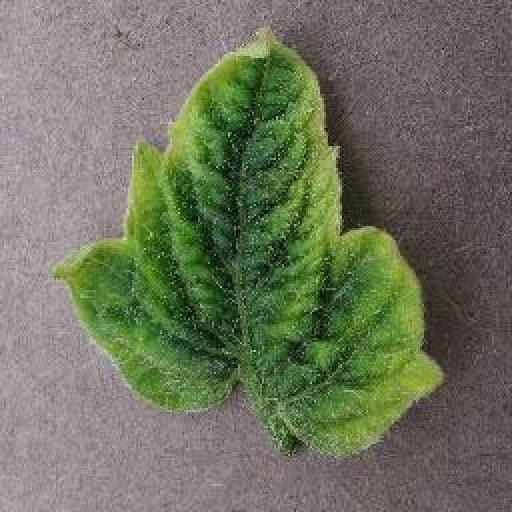Yellow Leaf Curl Virus: (55, 28, 444, 463)
